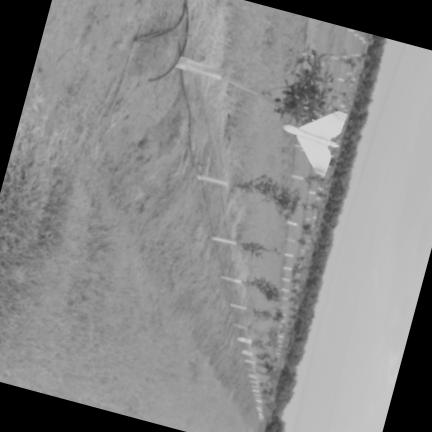Shahed: (282, 111, 345, 174)
